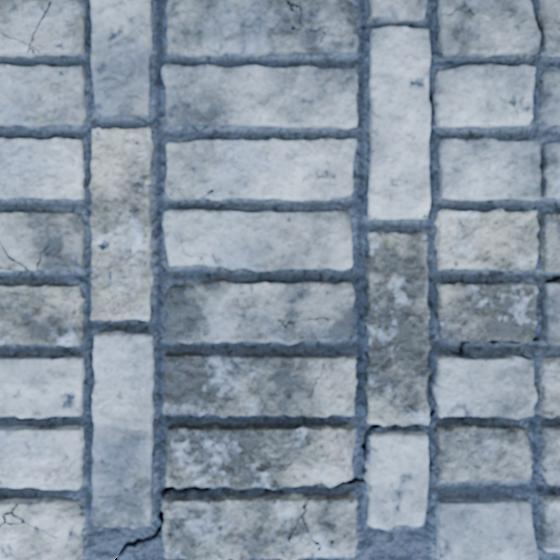brick: (162, 493, 356, 559), (162, 64, 356, 128), (163, 352, 356, 416), (366, 231, 429, 425), (166, 423, 354, 488), (92, 331, 153, 527), (165, 281, 354, 344), (90, 128, 152, 319), (369, 26, 429, 218), (166, 139, 355, 199), (163, 210, 351, 270), (167, 0, 357, 56), (438, 139, 559, 199), (437, 0, 559, 58), (91, 0, 151, 115), (433, 355, 536, 418), (436, 497, 537, 559), (435, 209, 537, 269), (434, 65, 534, 126), (436, 282, 537, 341), (367, 431, 427, 528), (435, 425, 531, 481), (0, 65, 85, 127), (0, 426, 83, 488), (0, 497, 83, 559), (0, 284, 83, 345), (0, 357, 83, 417), (0, 138, 83, 198), (0, 213, 84, 269), (33, 0, 84, 54), (0, 0, 48, 42), (370, 0, 426, 22), (539, 357, 559, 416), (540, 425, 559, 483), (540, 215, 559, 271), (541, 283, 559, 342), (539, 71, 559, 124), (540, 496, 559, 550), (0, 35, 33, 56), (0, 247, 22, 269)
crack: (334, 423, 380, 486), (0, 0, 52, 54), (113, 510, 164, 559), (285, 0, 341, 43), (0, 239, 27, 269), (160, 485, 211, 497), (35, 244, 49, 270), (450, 340, 469, 358), (507, 334, 541, 344), (200, 188, 215, 198), (544, 275, 559, 284), (0, 266, 19, 271), (428, 406, 436, 416), (129, 520, 136, 527), (488, 339, 497, 343)
